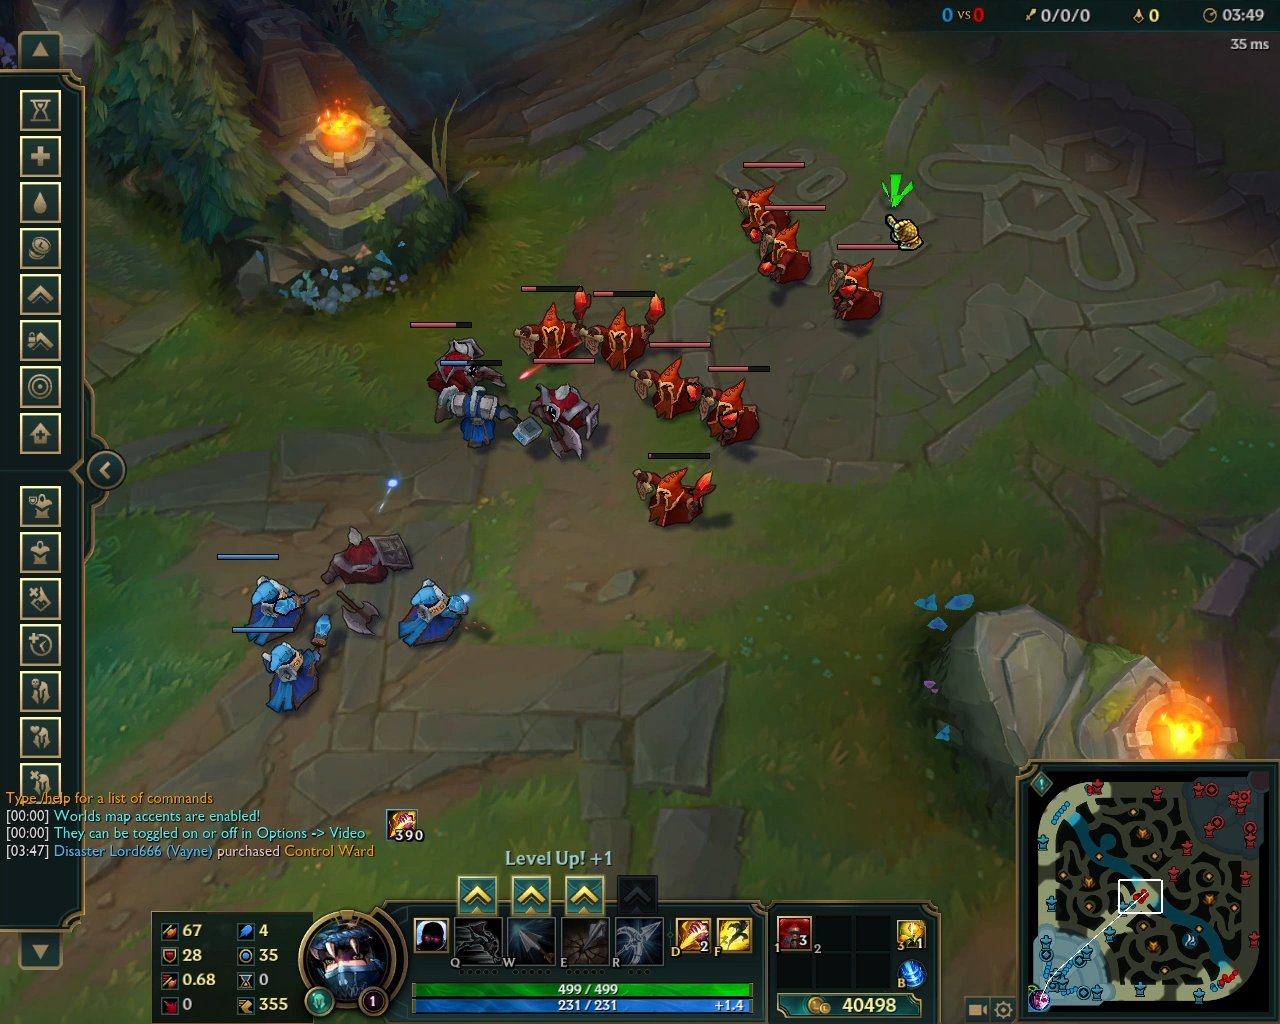EnemyMinion: (528, 357, 603, 463), (408, 322, 507, 395), (634, 450, 719, 531), (630, 342, 711, 425), (693, 366, 771, 451), (748, 205, 827, 289), (585, 289, 664, 369), (823, 243, 899, 324), (516, 283, 587, 360), (740, 161, 808, 234)
